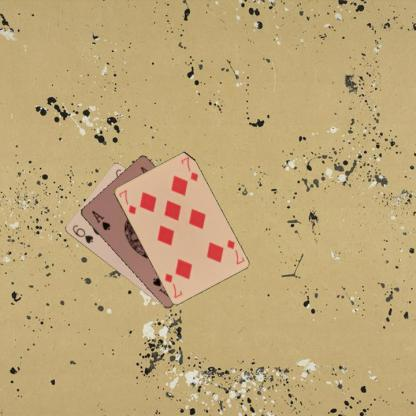6s: (70, 222, 94, 245)
7d: (115, 187, 138, 216), (224, 237, 246, 266)
As: (89, 208, 111, 232)
